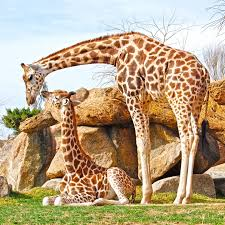Jirafa: (40, 87, 102, 132), (14, 46, 51, 109)
